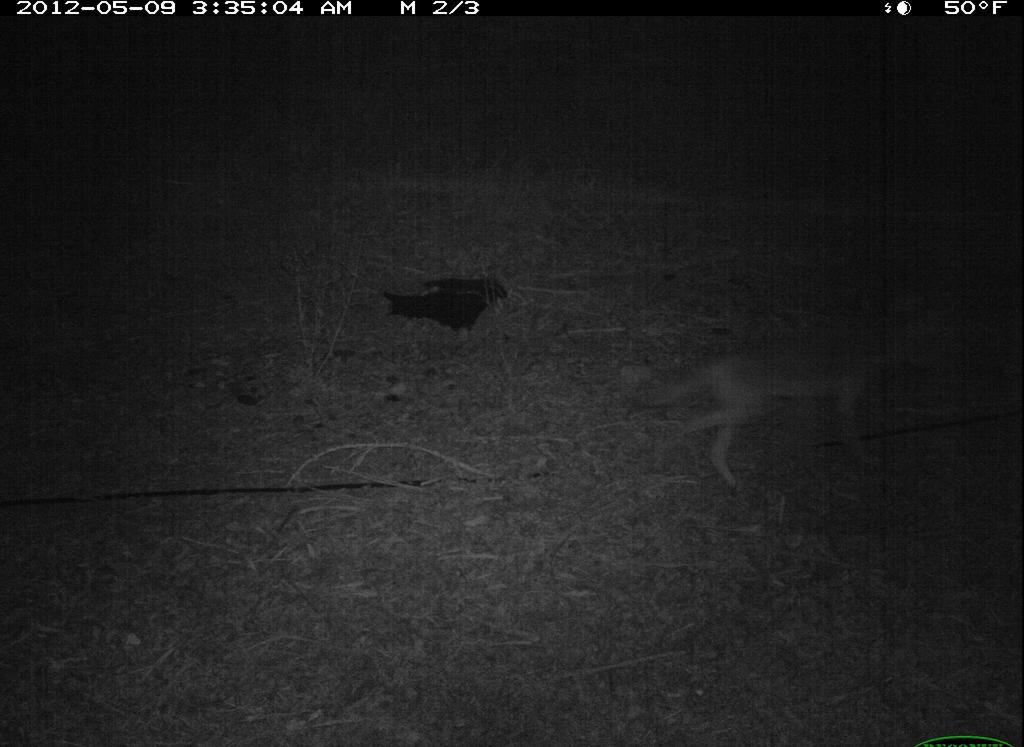coyote: (610, 315, 948, 496)
